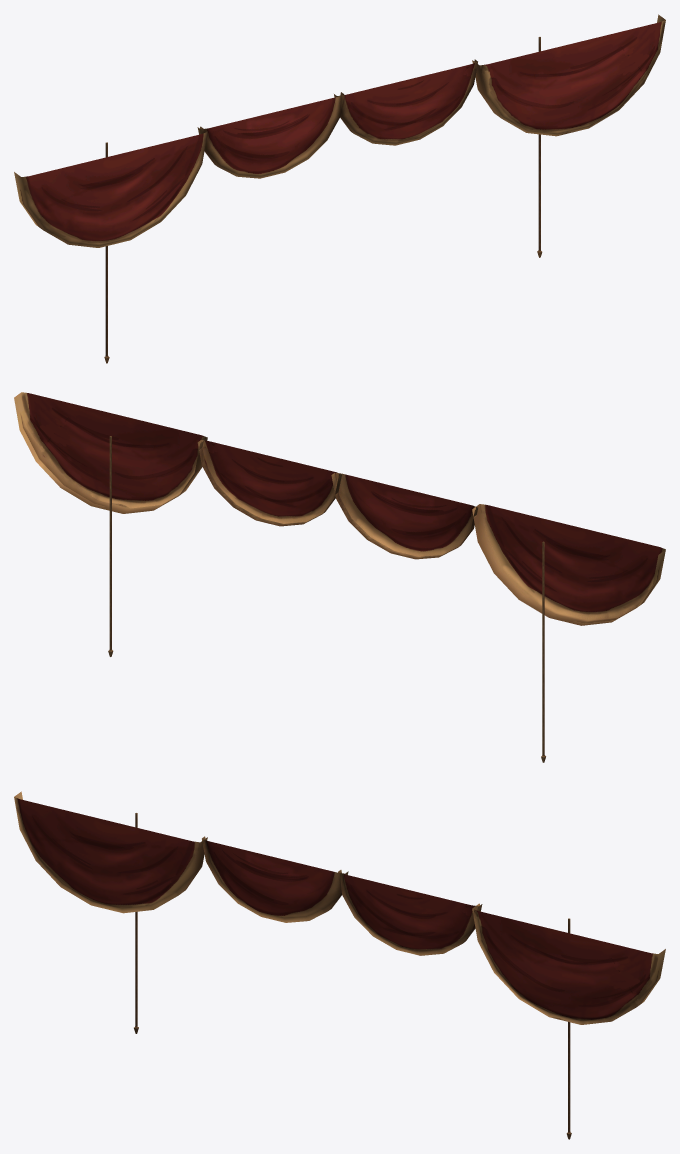
File: EndLevelCurtains_Top.obj
3 views of the same model, one above another, from view 1: azimuth 30°, elevation 25°; view 2: azimuth 150°, elevation 25°; view 3: azimuth 330°, elevation 25° (orthographic).
Parts seen in each view (by area): view 1: Model_EndLevelCurtains_Top; view 2: Model_EndLevelCurtains_Top; view 3: Model_EndLevelCurtains_Top.
Boxes of the visible parts, x1,y1,x2,y2 form: Model_EndLevelCurtains_Top: (14,14,665,363); Model_EndLevelCurtains_Top: (14,392,665,762); Model_EndLevelCurtains_Top: (14,791,665,1139).
Size of the model in its own units: 16.71 by 5.57 by 0.9086.
1 material, 1 textured.
